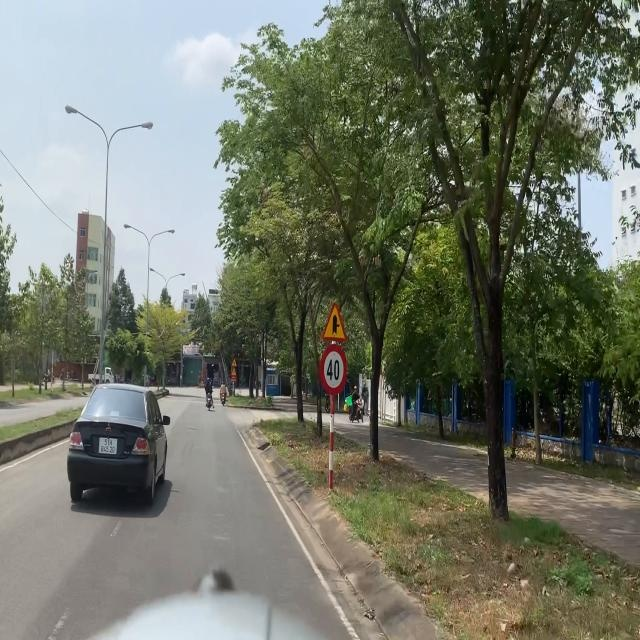bien_nguy_hiem: (322, 346, 346, 394), (323, 302, 348, 342), (231, 367, 237, 376), (231, 358, 237, 366)
